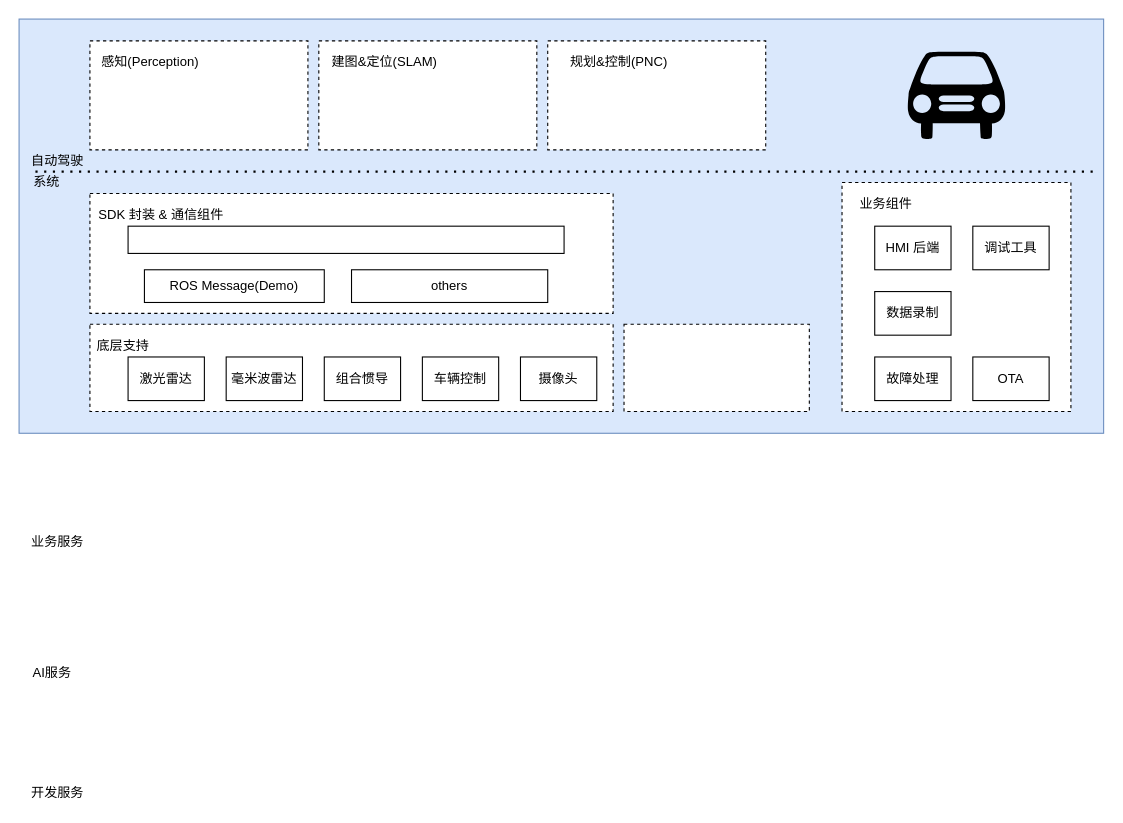
Some shapes in this 1123 by 823 pixel diagram are drawn without their labels. The shapes that lost their labels are listed below. From the top down, each one's centre as x and y in pixels, then its label:
At (345,239): "API".
At (716,367): "算法框架".
